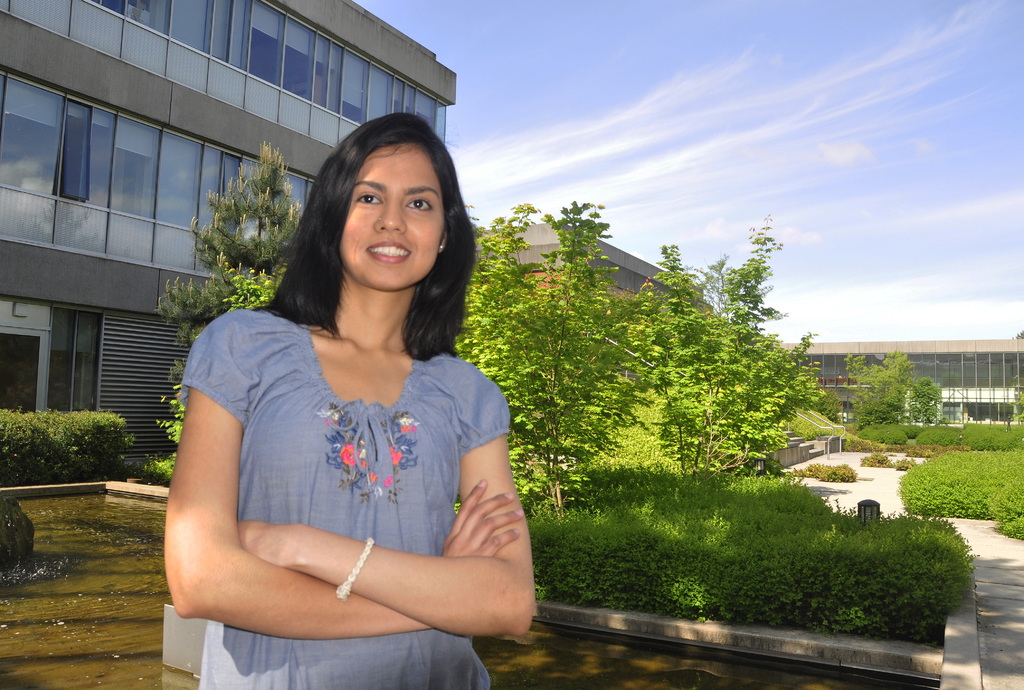Human_hand: (440, 476, 525, 557), (234, 520, 300, 570)
